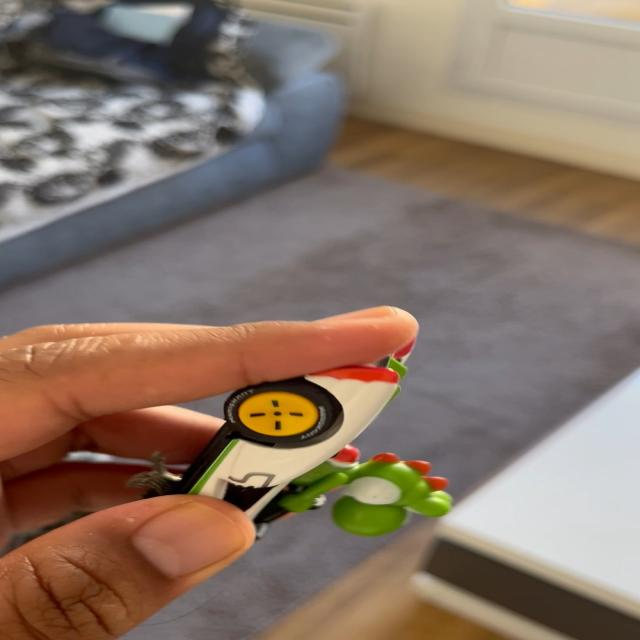yoshi: (151, 343, 473, 571)
